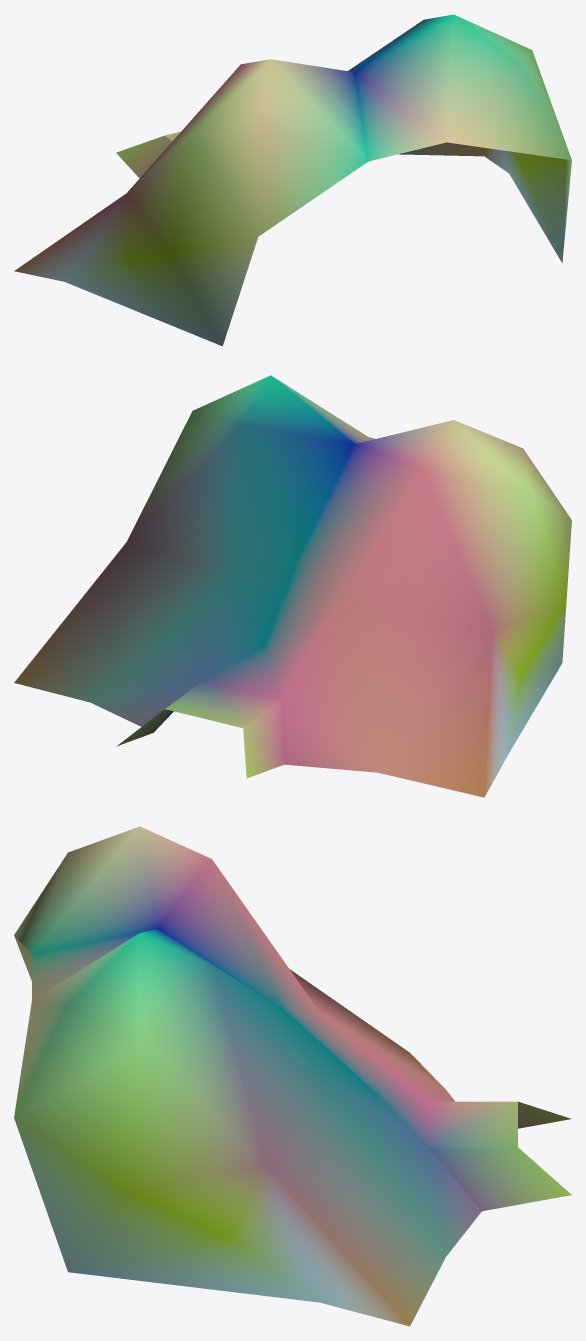
The picture shows the model from 3 angles, top to bottom: view 1: azimuth 30°, elevation 25°; view 2: azimuth 150°, elevation 25°; view 3: azimuth 270°, elevation 25°; orthographic projection. The views are drawn at different scales.
Visible parts, largest first — view 1: part; view 2: part; view 3: part.
Boxes of the visible parts, bbox=[...] form: part: bbox=[14, 14, 571, 346]; part: bbox=[14, 375, 571, 797]; part: bbox=[14, 826, 571, 1326].
Bounding box in the file's own units: 36 × 19 × 31.
